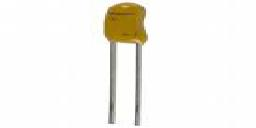Electrolytic-Capacitor: (103, 1, 153, 128)
